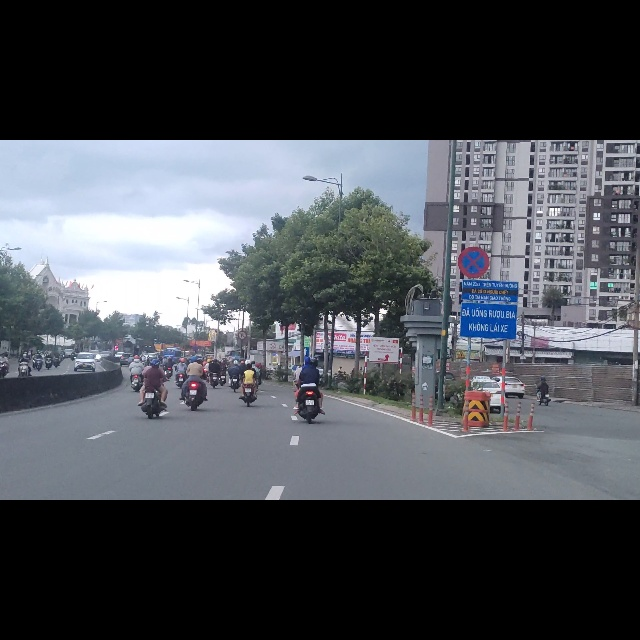bien_cam: (458, 186, 490, 247), (238, 339, 247, 355)
